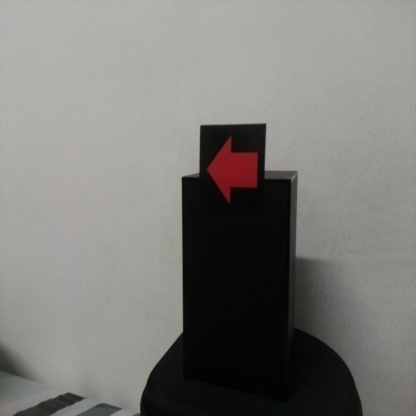id_4: (200, 126, 265, 214)
